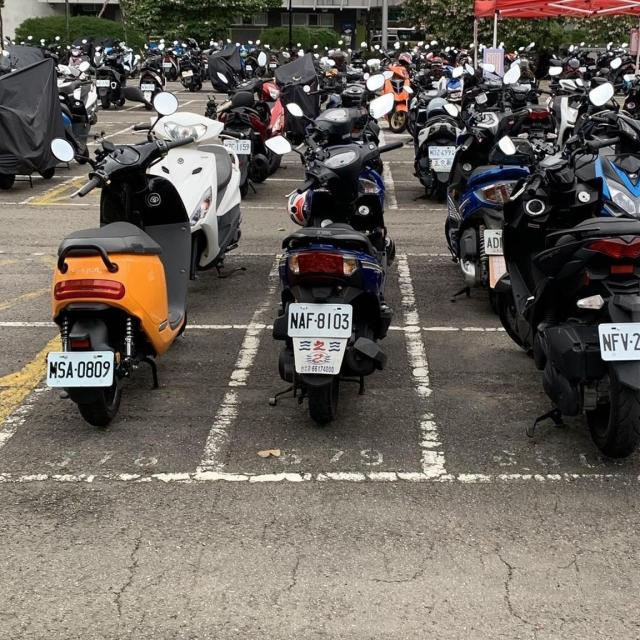W: (39, 346, 118, 393), (286, 298, 355, 342), (592, 317, 640, 363), (419, 138, 460, 165)
